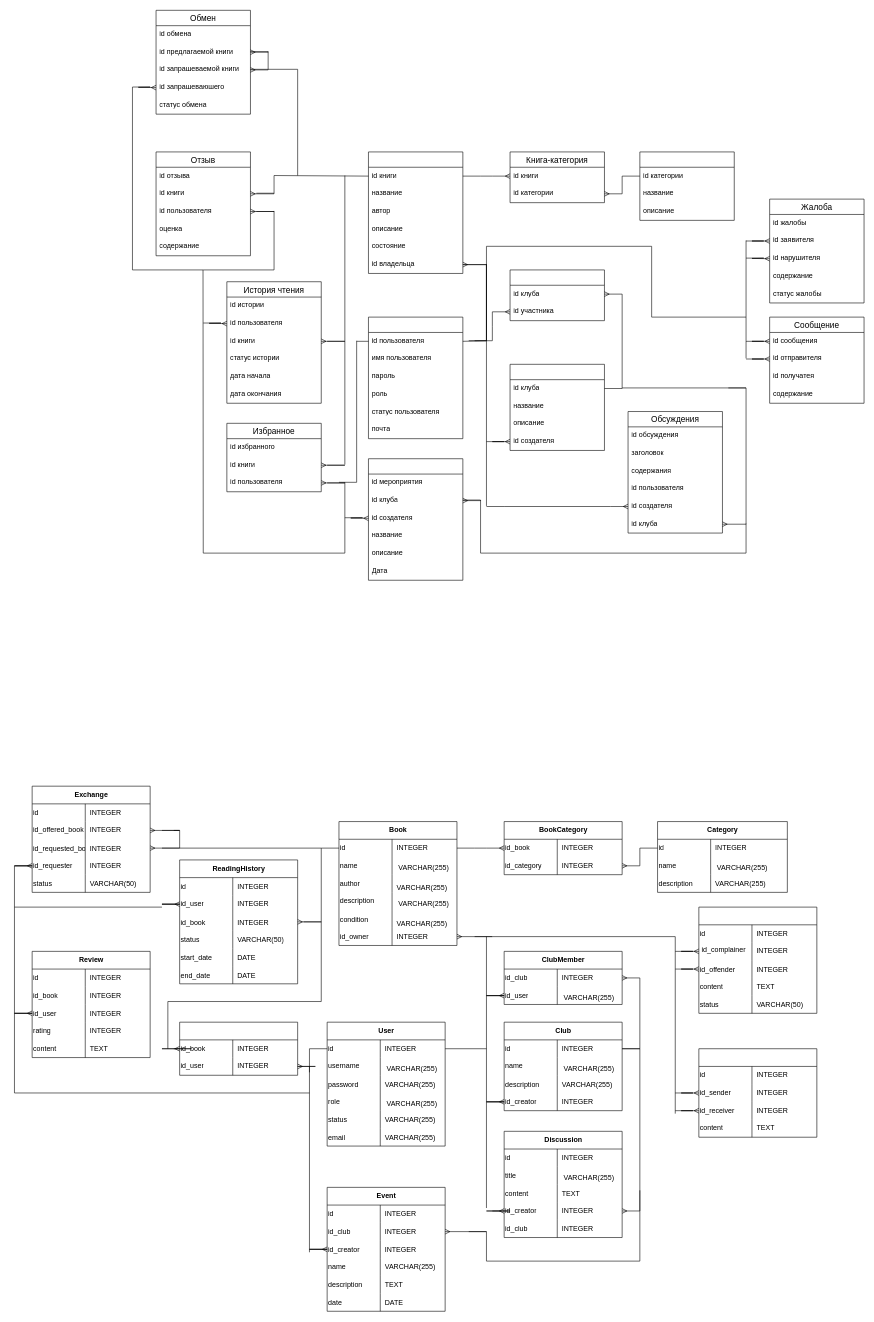
Some shapes in this 874 by 1322 pixel diagram are drawn without their labels. The box of each missing label's shape, as (x1, y1, x2, y2) in pixels:
Complaint: (698, 907, 817, 1013)
Favorite: (179, 1022, 298, 1075)
Message: (698, 1048, 817, 1137)
Категория: (639, 151, 734, 220)
Книга: (368, 151, 463, 273)
Книжный клуб: (509, 364, 604, 450)
Мероприятие: (368, 458, 463, 580)
Пользователь: (368, 317, 463, 439)
Участник клуба: (509, 269, 604, 321)
